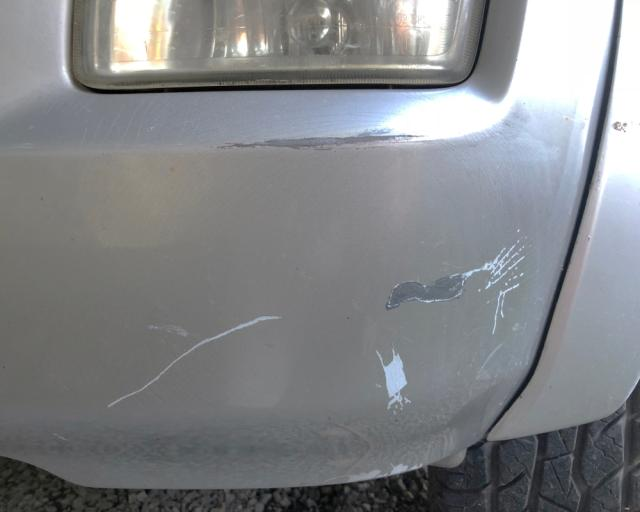scratch: (102, 312, 287, 412), (379, 224, 532, 337), (213, 126, 428, 152)
